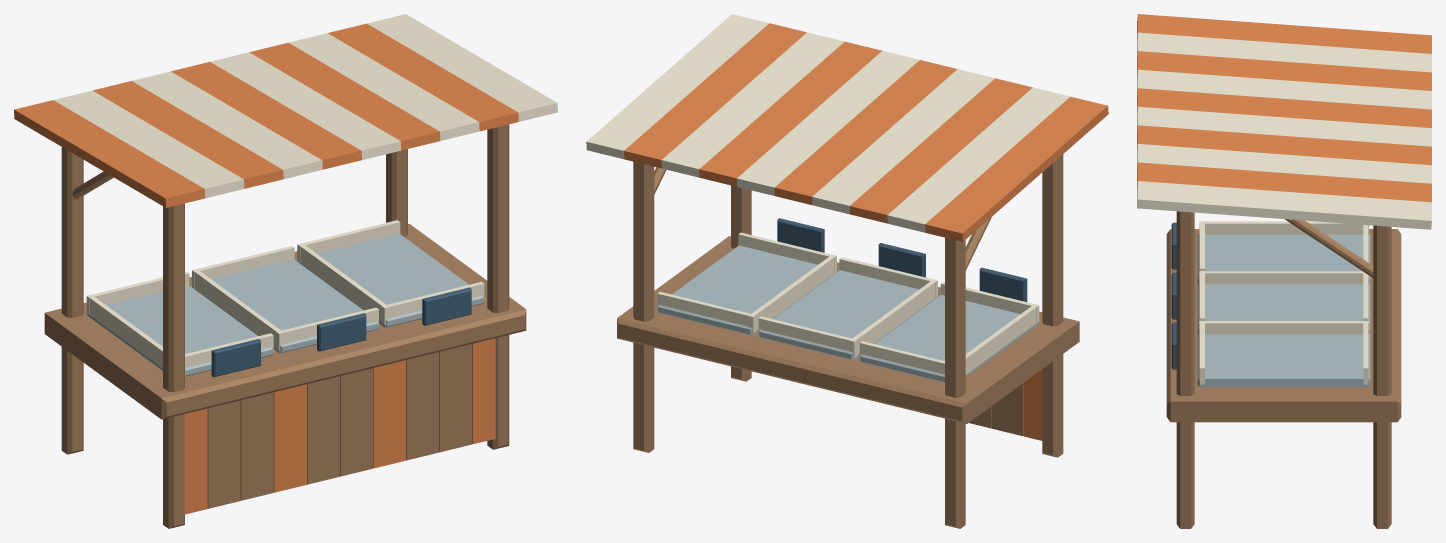
File: harbor-and-tackle-fish-market-stall-d82006ea.glb
3 renders of one model, left to right at view 1: azimuth 30°, elevation 25°; view 2: azimuth 150°, elevation 25°; view 3: azimuth 270°, elevation 25°, orthographic. The views are drawn at different scales.
Visible parts, largest first — view 1: cedar, orange, ivory, metal, navy; view 2: ivory, cedar, orange, metal, navy; view 3: ivory, orange, cedar, metal, navy.
Boxes of the visible parts, <box> form: cedar: <box>44,124,526,528</box>; orange: <box>14,23,518,514</box>; ivory: <box>53,14,557,367</box>; metal: <box>87,233,483,376</box>; navy: <box>211,287,471,377</box>; ivory: <box>586,14,1069,374</box>; cedar: <box>617,154,1079,528</box>; orange: <box>624,23,1108,440</box>; metal: <box>658,245,1038,382</box>; navy: <box>777,218,1027,301</box>; ivory: <box>1137,32,1431,384</box>; orange: <box>1137,14,1431,202</box>; cedar: <box>1166,211,1401,528</box>; metal: <box>1197,233,1370,387</box>; navy: <box>1171,222,1176,369</box>.
Size of the model in its own units: 2.9 by 2.49 by 1.95.
